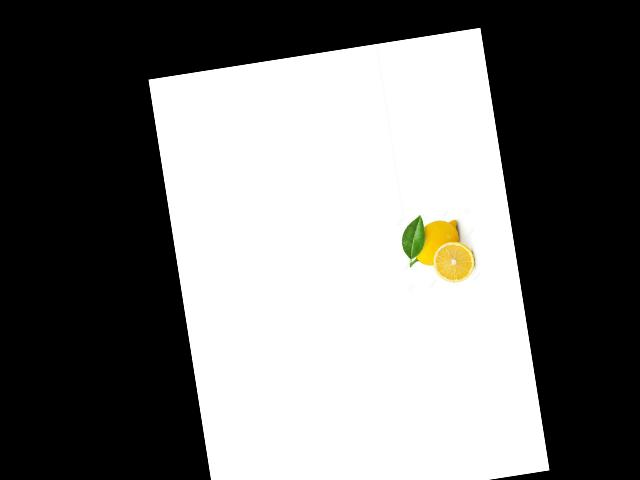lemon: (403, 215, 466, 271)
